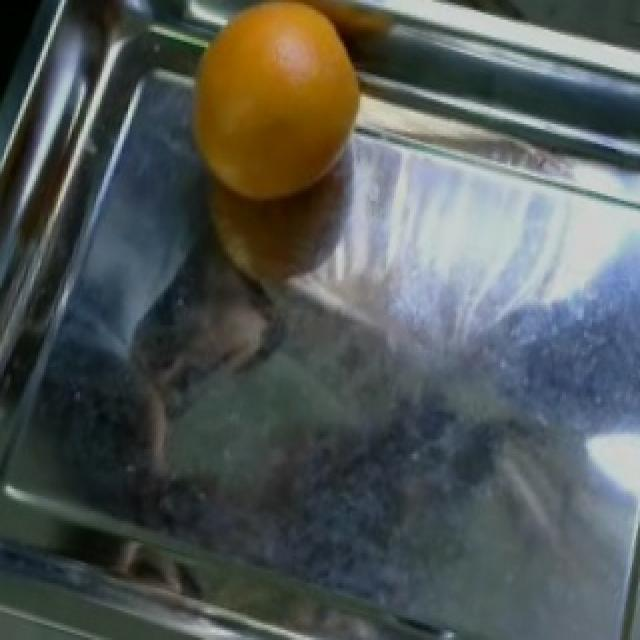Fruit: (164, 0, 384, 223)
